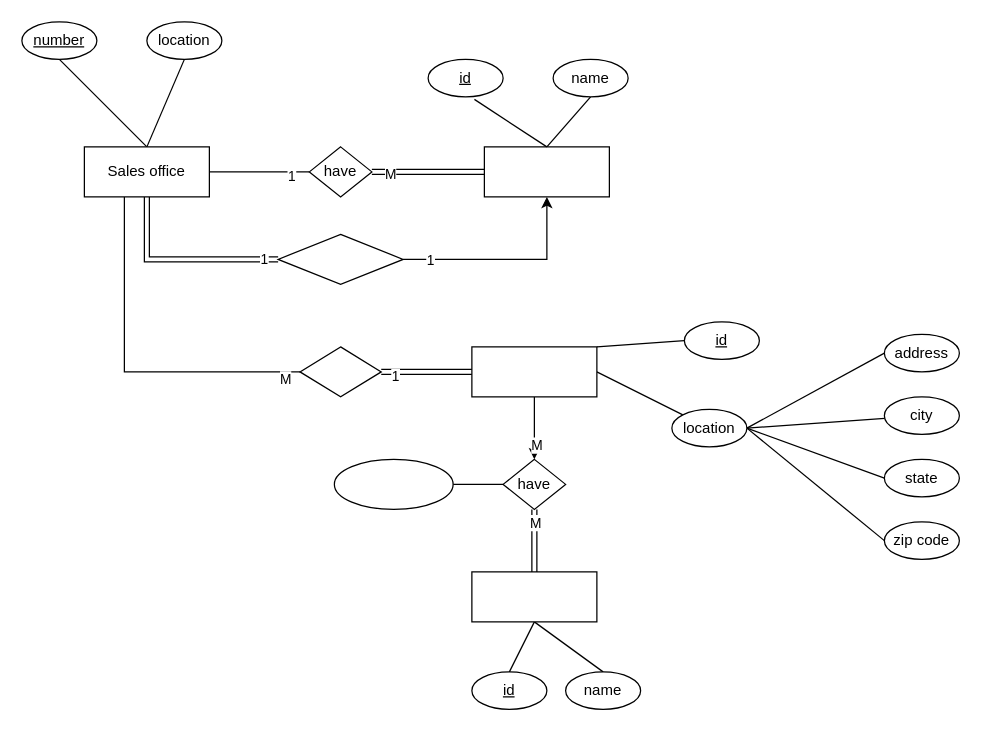
Image size: 981x731. Some labels were removed from this diagram. The shapes that lost their labels are listed below. From the top down, each one's centre as x and y in pixels, then its label:
At point (546, 171): "employee".
At point (340, 258): "Managed by".
At point (340, 371): "list".
At point (534, 371): "Property".
At point (393, 483): "percentage".
At point (534, 596): "owner".
